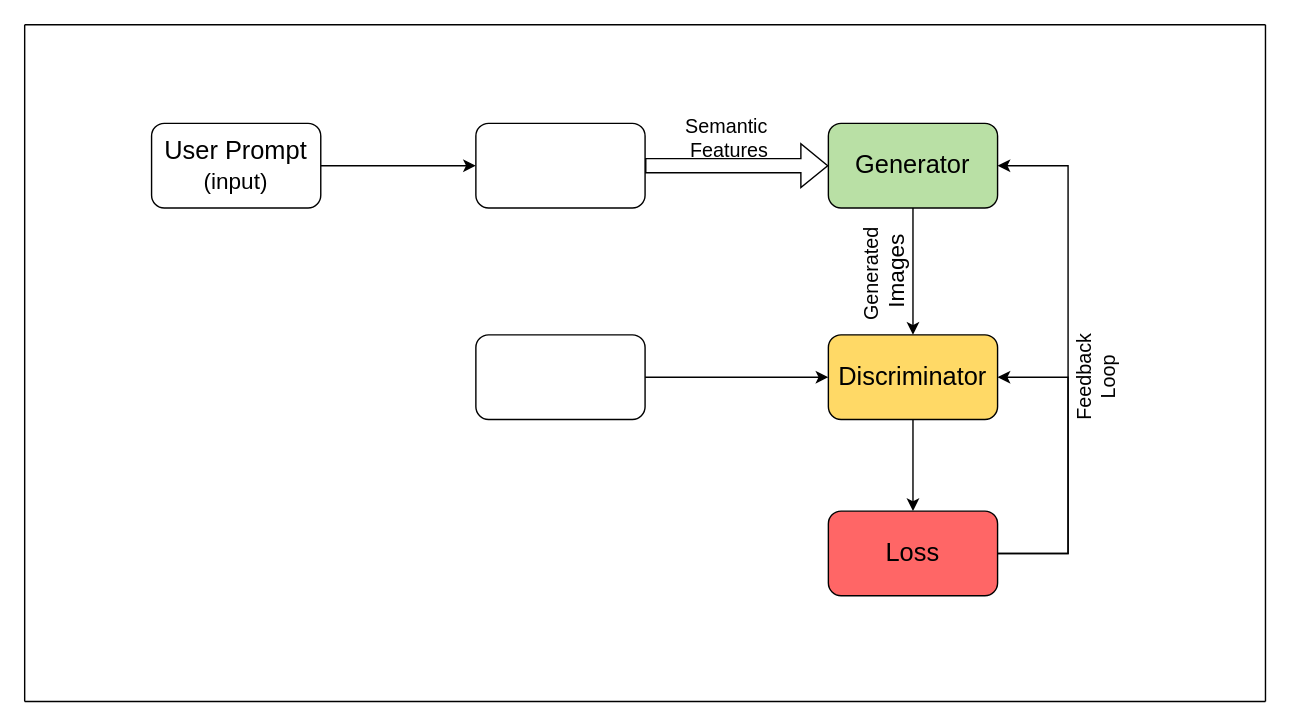
Image size: 1292x728. Some labels were removed from this diagram. Here are the shapes that lost their labels. From the top down, the centre of each, then its label:
point (559, 165): Text Encoder
point (559, 376): Real samples
